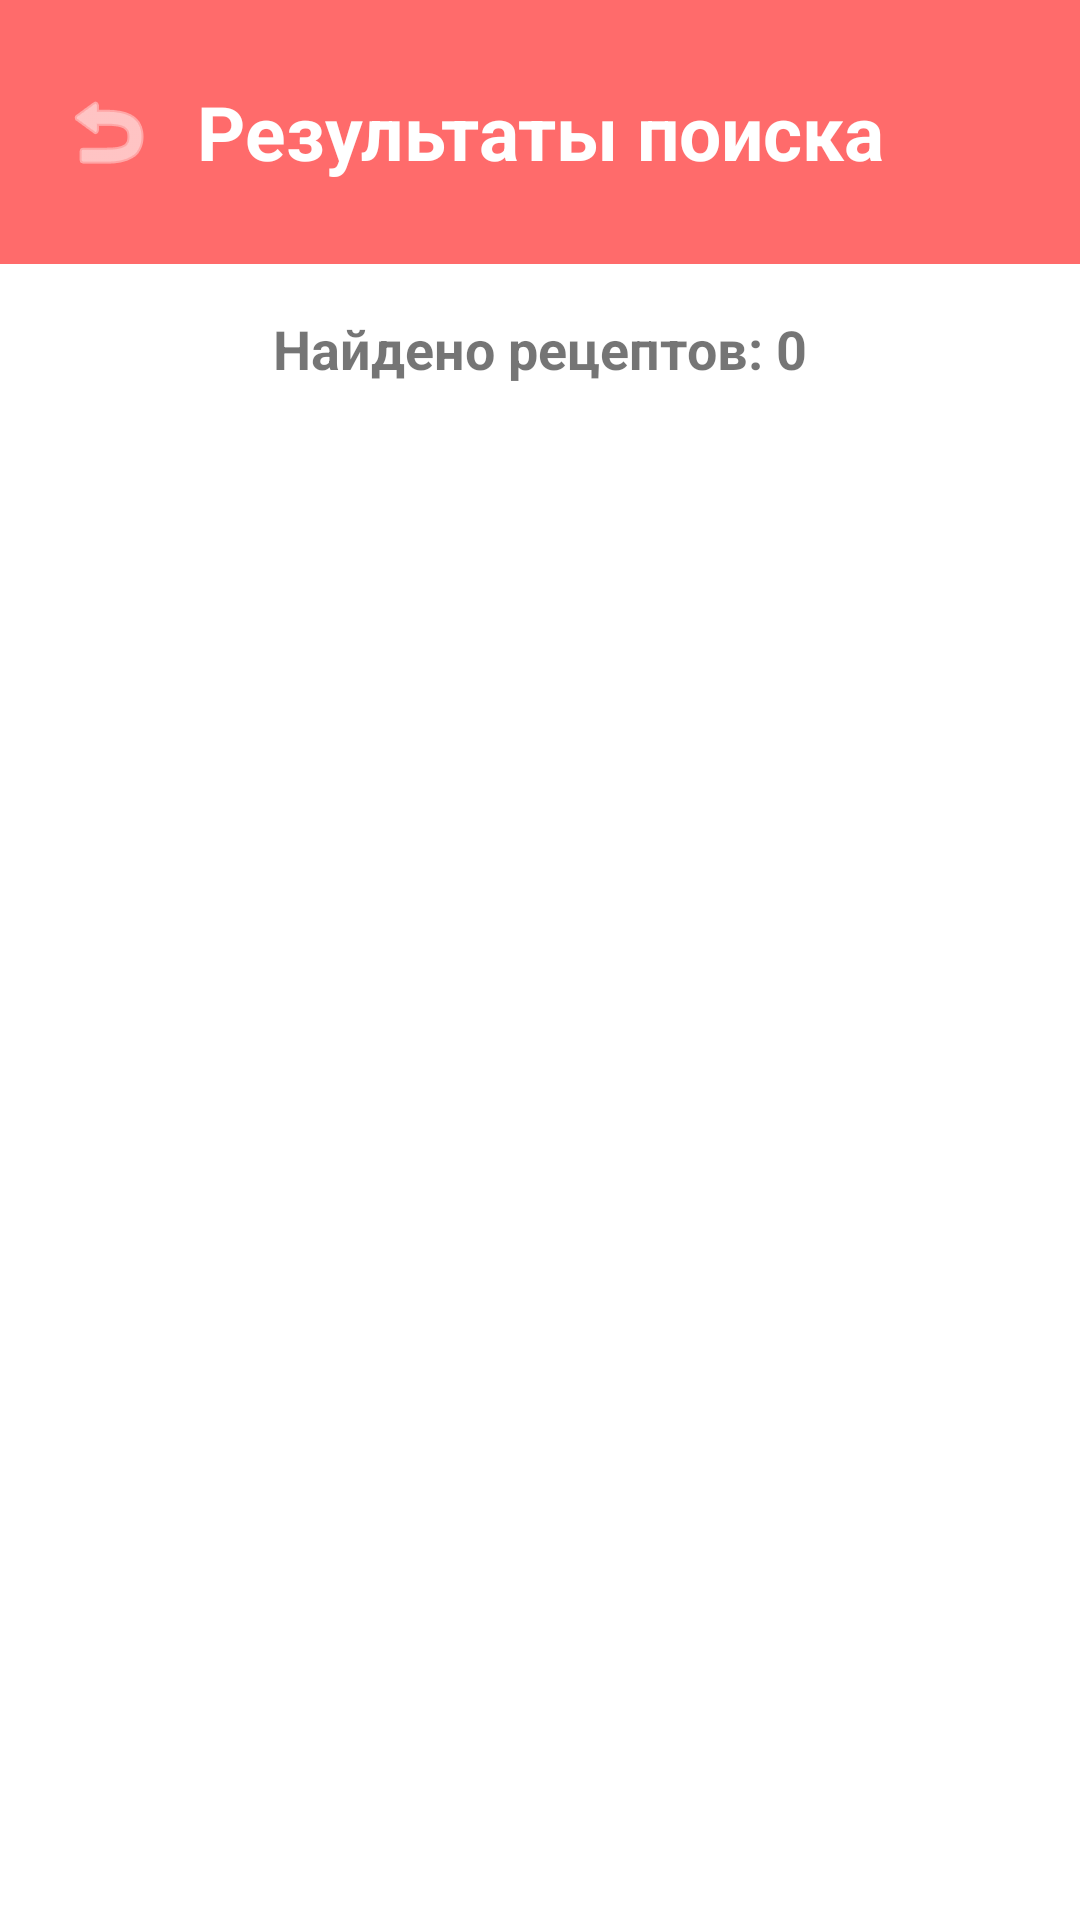

Icon click points for this 1080w x 1920h phone screenshot, format (x,y):
Назад: (109,133)
